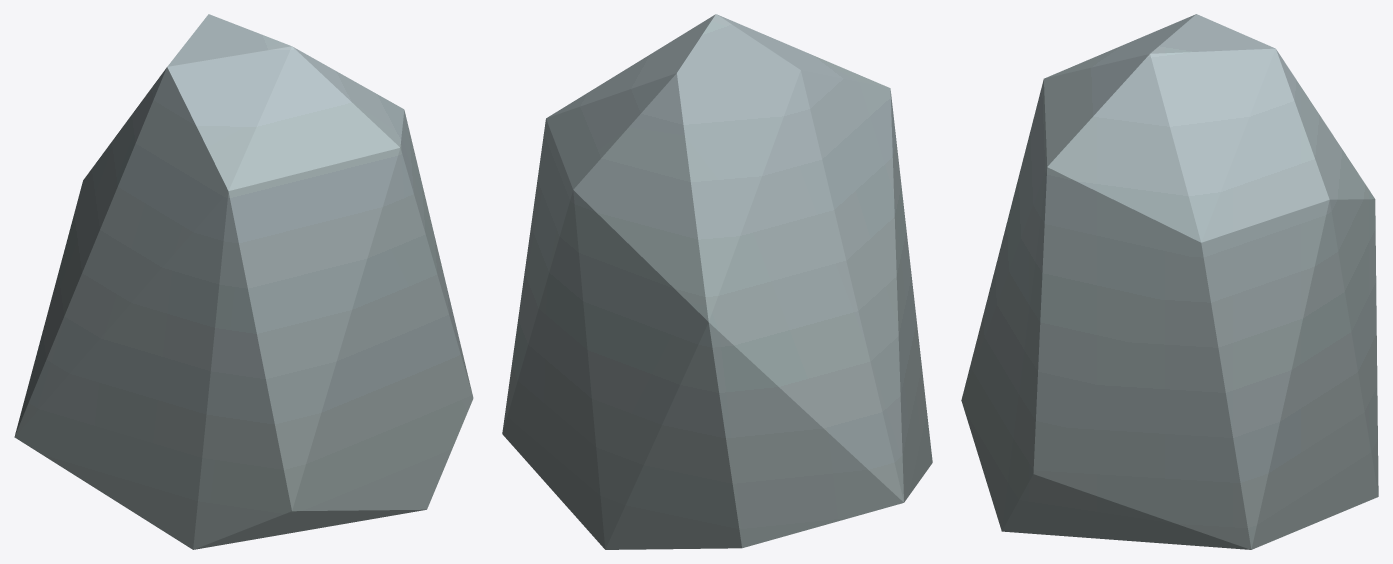
The picture shows the model from 3 angles, left to right: view 1: azimuth 30°, elevation 25°; view 2: azimuth 150°, elevation 25°; view 3: azimuth 270°, elevation 25°; orthographic projection. The views are drawn at different scales.
Visible parts, largest first — view 1: Rock_04; view 2: Rock_04; view 3: Rock_04.
Boxes of the visible parts, x1,y1,x2,y2 form: Rock_04: [14, 14, 473, 549]; Rock_04: [502, 14, 932, 549]; Rock_04: [961, 14, 1378, 549].
Size of the model in its own units: 105 by 113 by 95.48.
